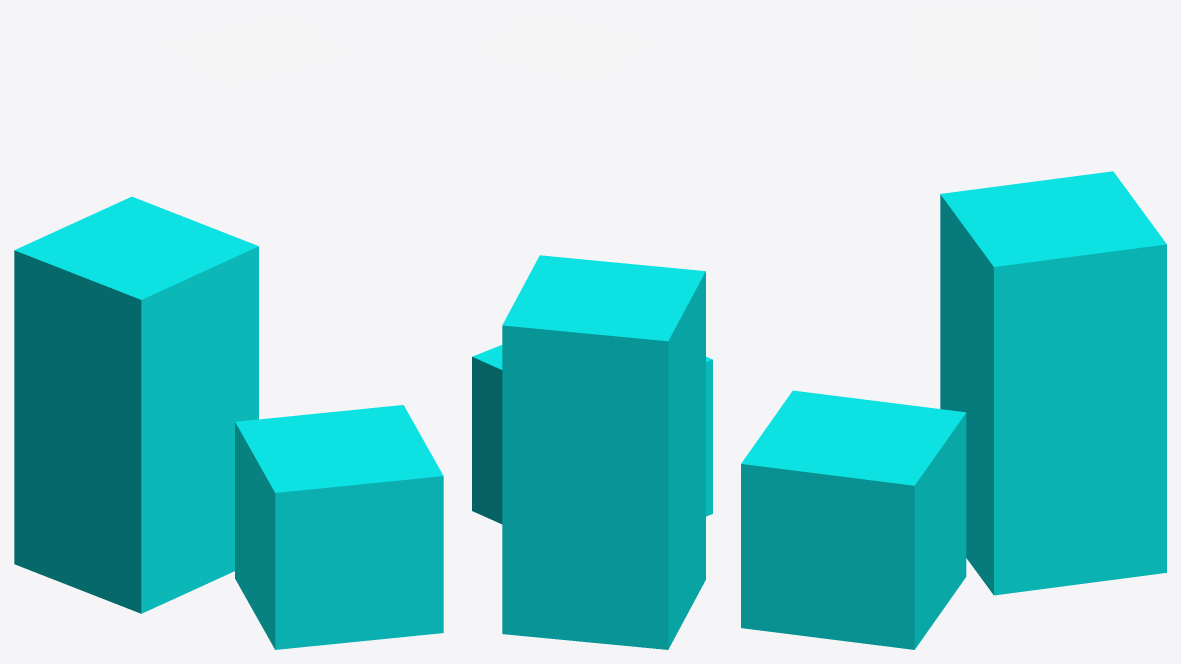
The model's file is Cycles.gltf.
The picture shows the model from 3 angles, left to right: view 1: azimuth 30°, elevation 25°; view 2: azimuth 150°, elevation 25°; view 3: azimuth 270°, elevation 25°; orthographic projection. The views are drawn at different scales.
Visible parts, largest first — view 1: large_box, small_box, Light; view 2: large_box, small_box, Light; view 3: large_box, small_box, Light.
Boxes of the visible parts, left/top/right/bottom form: large_box: left=14, top=196, right=258, bottom=613; small_box: left=235, top=405, right=443, bottom=649; Light: left=169, top=14, right=341, bottom=82; large_box: left=502, top=255, right=705, bottom=649; small_box: left=472, top=345, right=712, bottom=524; Light: left=476, top=14, right=644, bottom=81; large_box: left=940, top=171, right=1166, bottom=595; small_box: left=741, top=390, right=966, bottom=649; Light: left=917, top=14, right=1032, bottom=74.
Bounding box in the file's own units: 324 × 548 × 388.
